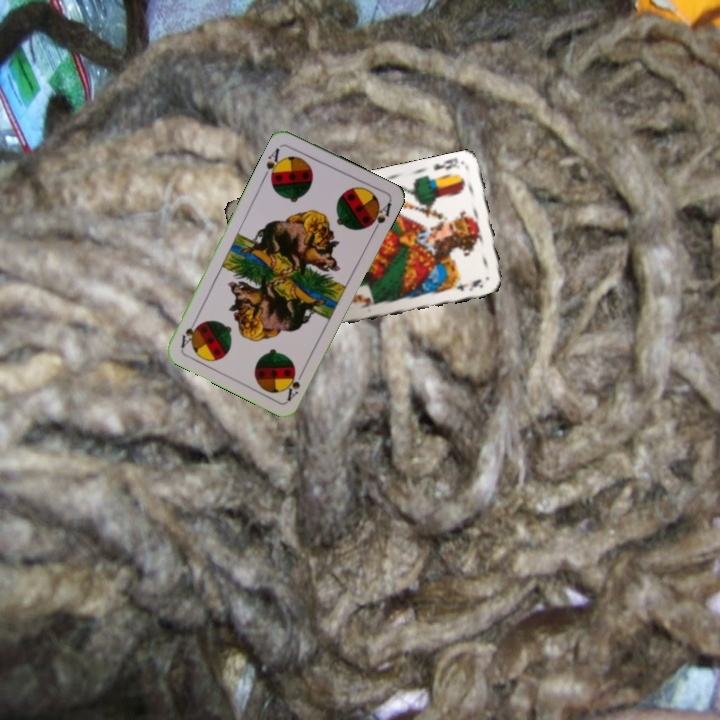EK: (430, 155, 462, 173)
SA: (260, 144, 286, 183), (282, 365, 307, 403)
